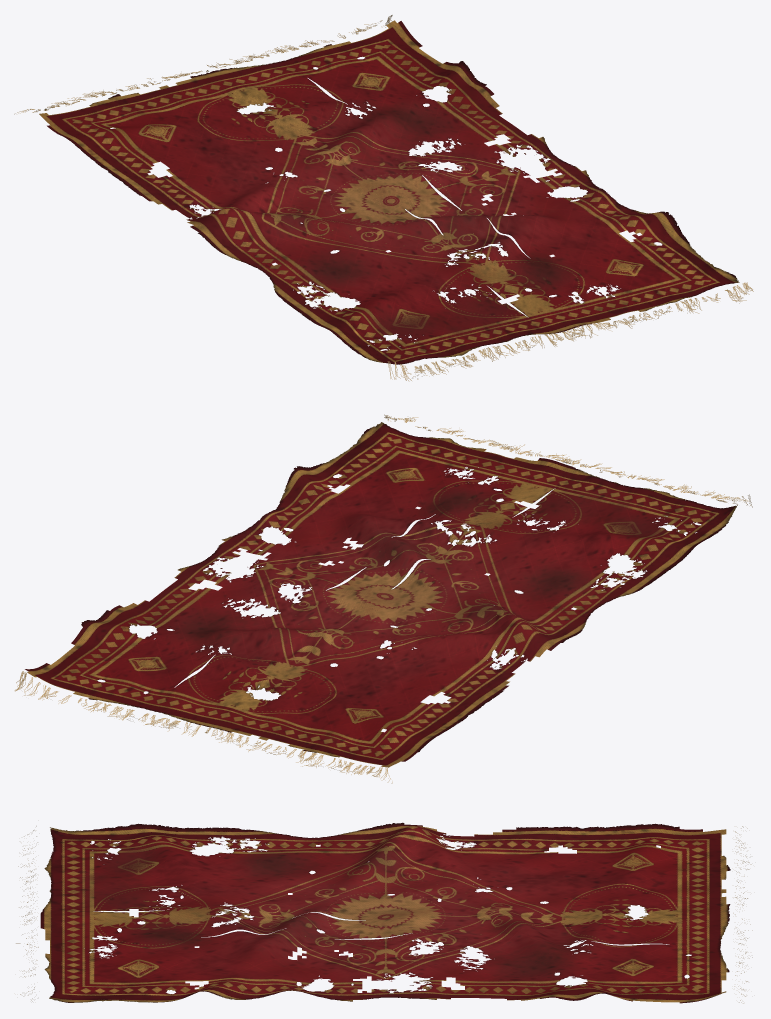
The model's file is SM_Cripta_Tapete.glb.
The picture shows the model from 3 angles, top to bottom: view 1: azimuth 30°, elevation 25°; view 2: azimuth 150°, elevation 25°; view 3: azimuth 270°, elevation 25°; orthographic projection. The views are drawn at different scales.
Visible parts, largest first — view 1: SM_Cripta_Tapete; view 2: SM_Cripta_Tapete; view 3: SM_Cripta_Tapete.
Boxes of the visible parts, box(x1,y1,x2,y2) form: SM_Cripta_Tapete: box(14, 15, 753, 381); SM_Cripta_Tapete: box(14, 414, 752, 783); SM_Cripta_Tapete: box(16, 822, 752, 1003).
Size of the model in its own units: 3.66 by 0.1872 by 6.37.
Materials: 2 (1 with a texture image).
